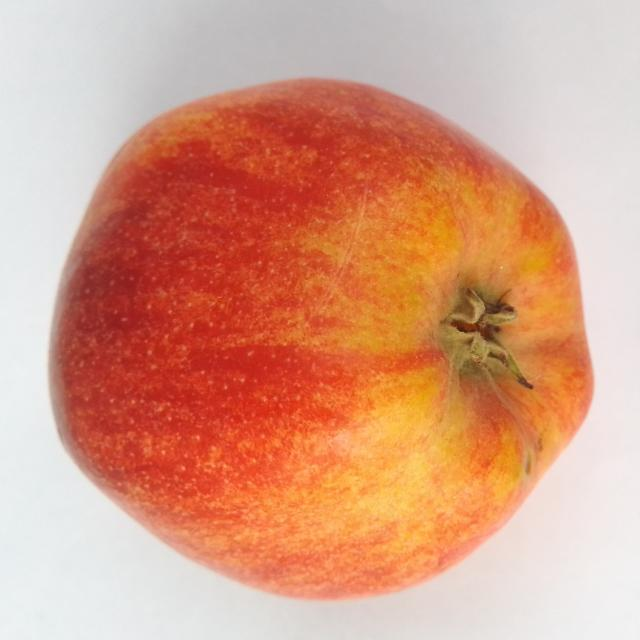Fresh Apple: (33, 67, 602, 608)
